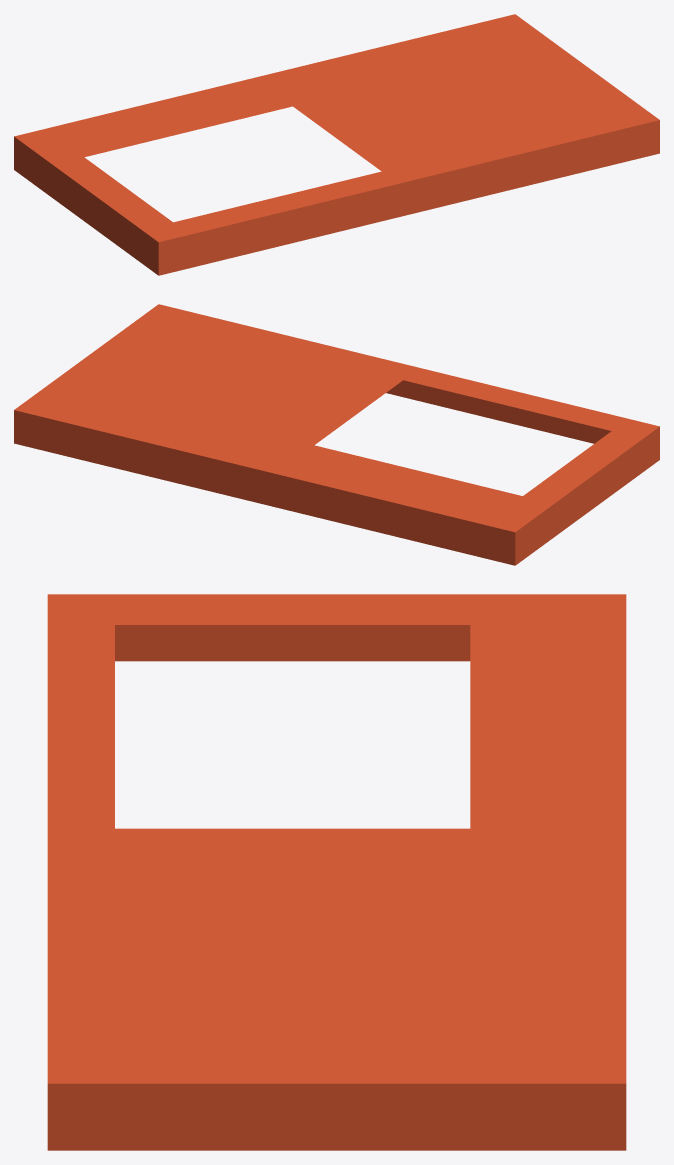
The model's file is washbasin_counter.dae.
3 views of the same model, one above another, from view 1: azimuth 30°, elevation 25°; view 2: azimuth 150°, elevation 25°; view 3: azimuth 270°, elevation 25° (orthographic). The views are drawn at different scales.
Parts seen in each view (by area): view 1: Plane; view 2: Plane; view 3: Plane.
Boxes of the visible parts, x1,y1,x2,y2 form: Plane: (14, 14, 659, 275); Plane: (14, 304, 659, 565); Plane: (47, 594, 626, 1150).
Size of the model in its own units: 1.2 by 0.6 by 0.0765.
